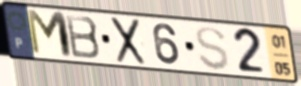2: (230, 26, 271, 77)
6: (152, 22, 182, 67)
B: (63, 12, 103, 61)
M: (23, 7, 76, 62)
S: (194, 25, 231, 73)
X: (109, 15, 148, 67)
